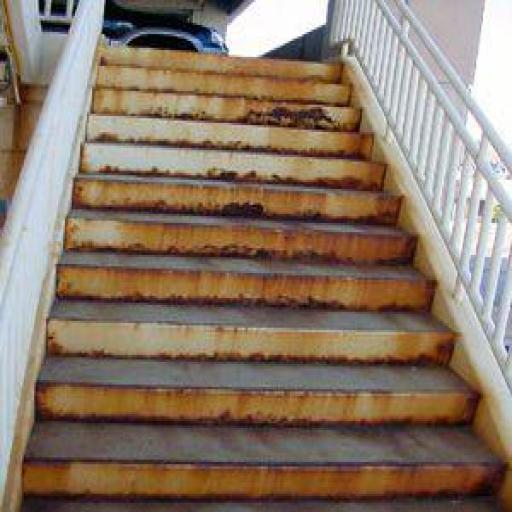corrosion: (5, 36, 509, 510)
